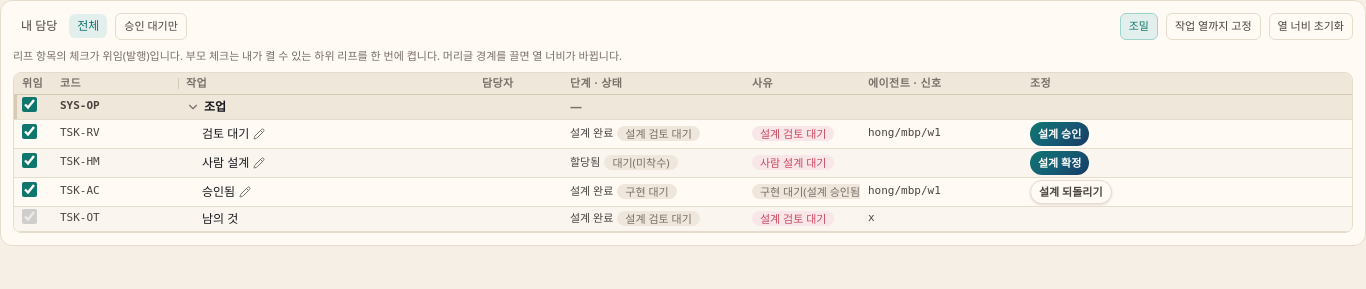
Scenario: DelegationTable — 설계 문구·설계 버튼(설계 상태 스펙 3절·7절) › 설계 문구는 사유 칸의 칩이고, 누르면 되돌림 사유·안내가 펼쳐진다 — 설계 문구가 있으면 선행 대기가 아닌 빈자리 사유는 그리지 않는다
Click the button "설계 검토 대기" in the row of "TSK-RV" at coordinates (793, 133), box x1=752 y1=126 x2=834 y2=140
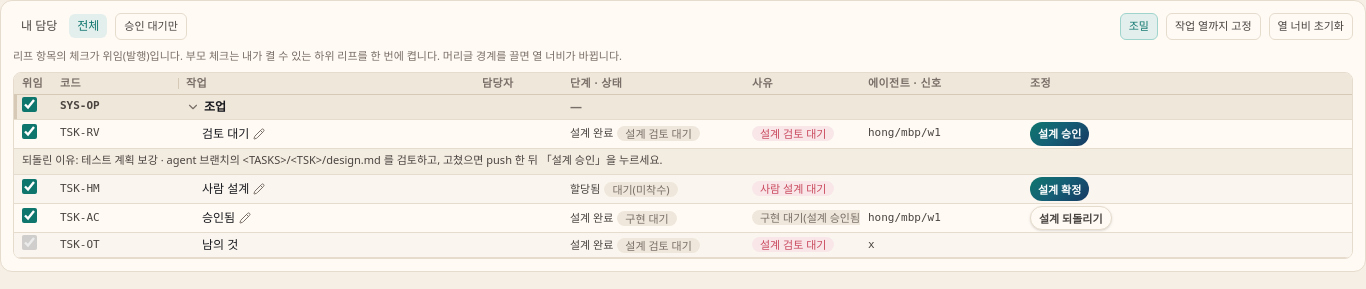
Expected: the button "사람 설계 대기" is shown, x1=752 y1=181 x2=834 y2=196
Now the text "되돌린 이유: 테스트 계획 보강" is shown, box x1=22 y1=152 x2=662 y2=166
Now the text "「설계 승인」" is shown, box x1=166 y1=152 x2=662 y2=166
